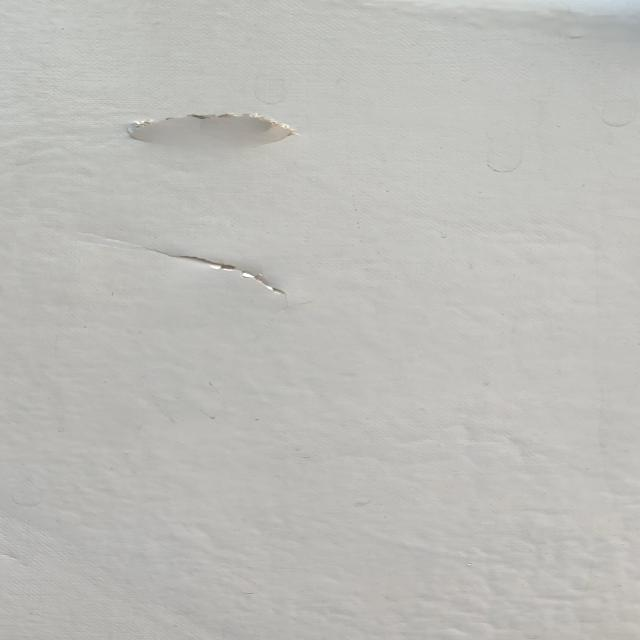Scratches: (94, 102, 345, 163), (154, 242, 349, 302)
